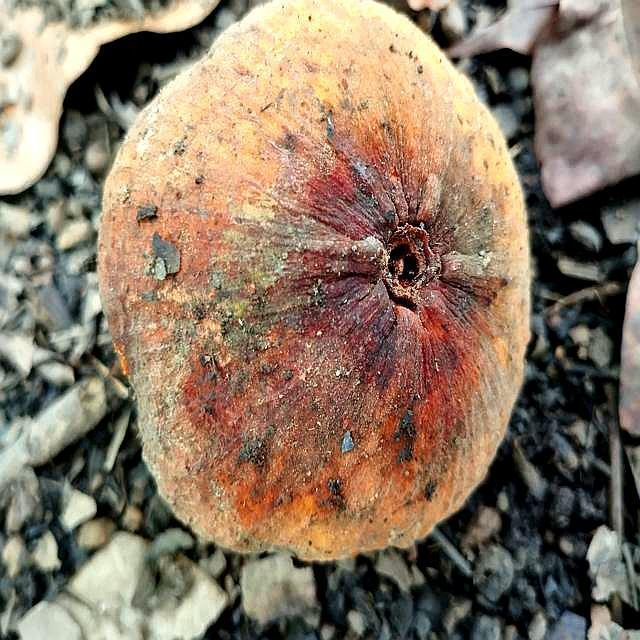Biodegradable: (97, 1, 539, 561)
